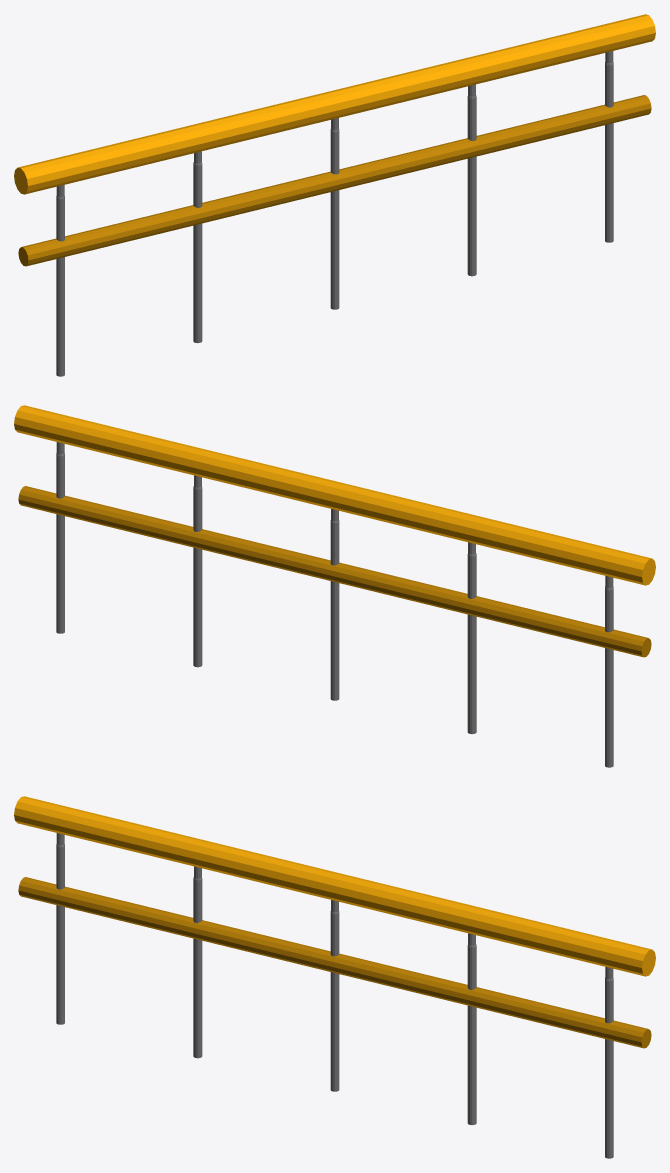
The model's file is SciFI_handrails_small(M3tt3o)fbx.fbx.
3 views of the same model, one above another, from view 1: azimuth 30°, elevation 25°; view 2: azimuth 150°, elevation 25°; view 3: azimuth 330°, elevation 25° (orthographic).
Parts seen in each view (by area): view 1: Cylinder.002; view 2: Cylinder.002; view 3: Cylinder.002.
Part boxes in pixels (bbox=[...]): Cylinder.002: bbox=[14, 14, 655, 376]; Cylinder.002: bbox=[14, 405, 655, 767]; Cylinder.002: bbox=[14, 796, 655, 1158].
Size of the model in its own units: 458 by 151 by 17.64.
1 material, 1 textured.
